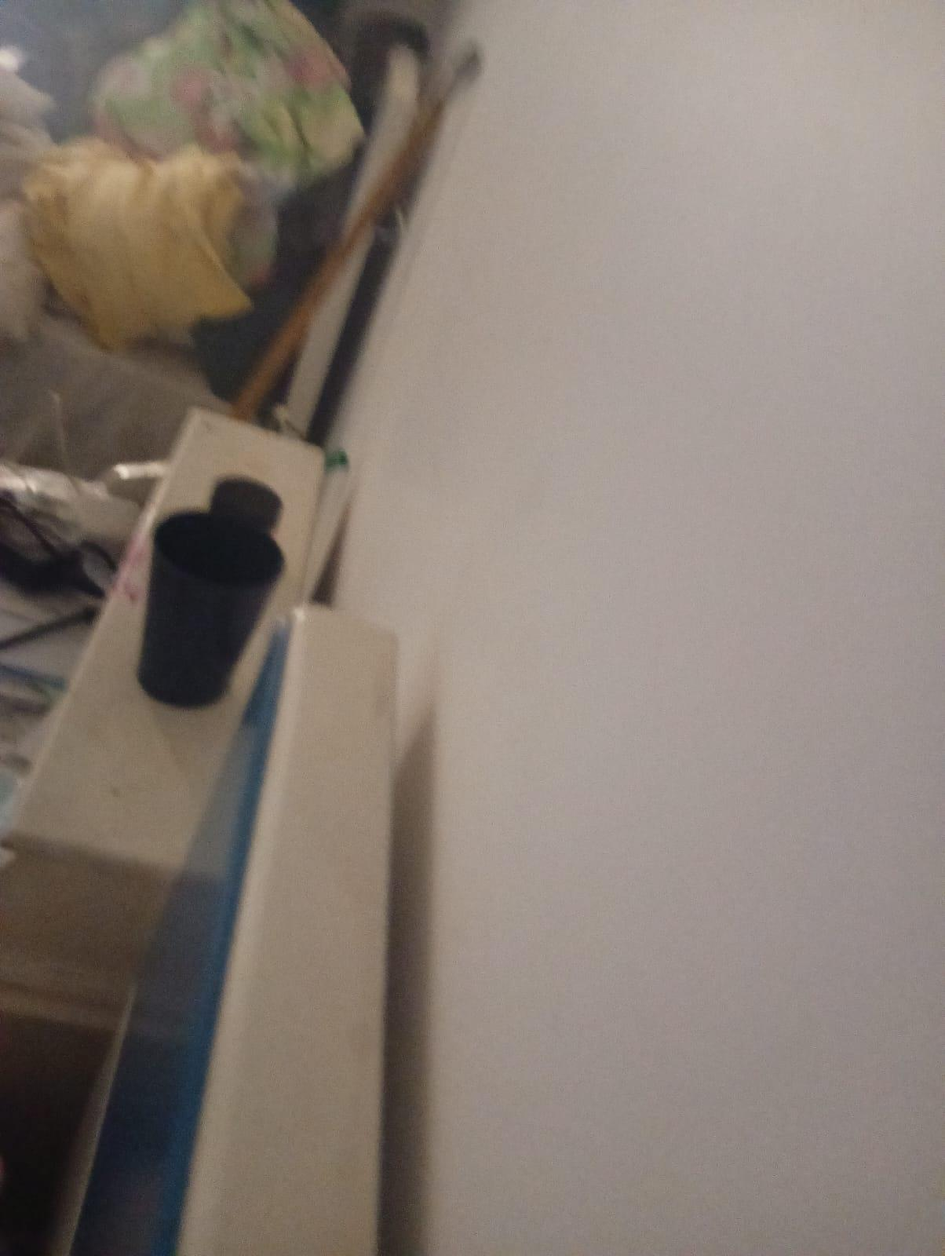cup: (137, 509, 284, 707)
